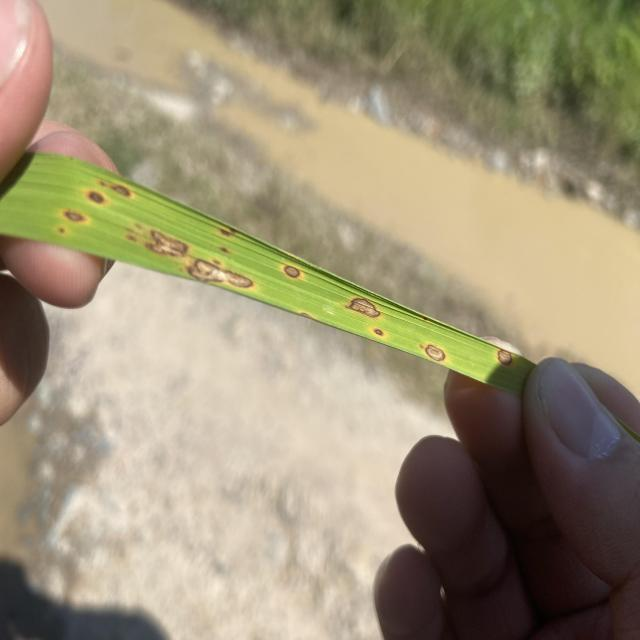Dao on: (189, 258, 253, 287), (145, 229, 190, 259), (346, 298, 380, 317), (426, 344, 445, 361), (112, 184, 132, 197), (65, 210, 85, 222), (499, 348, 512, 366), (88, 189, 104, 203), (284, 264, 300, 278), (212, 259, 223, 266), (127, 235, 137, 241), (375, 328, 383, 335), (222, 229, 229, 236), (221, 247, 228, 254), (135, 224, 141, 230), (59, 227, 64, 233), (101, 182, 106, 186)
